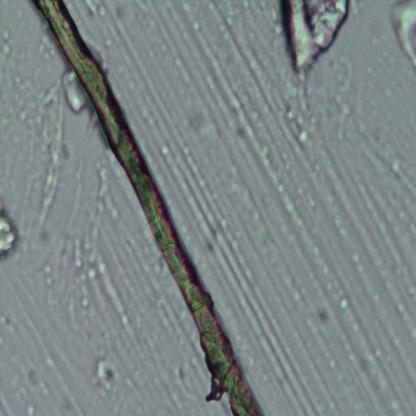Background material: (282, 0, 350, 73), (70, 238, 118, 318), (258, 155, 308, 229), (37, 114, 64, 242), (191, 209, 237, 259), (386, 0, 416, 68), (224, 97, 260, 152), (363, 137, 401, 182), (160, 352, 193, 394), (34, 70, 66, 106), (60, 74, 89, 113), (0, 207, 20, 256), (22, 360, 45, 394), (0, 24, 20, 62), (94, 363, 120, 390), (82, 0, 107, 26), (189, 110, 208, 137), (335, 294, 354, 314), (311, 305, 333, 322), (156, 138, 171, 159), (22, 401, 39, 415), (298, 128, 308, 145)
Microfibre: (31, 1, 263, 415)
